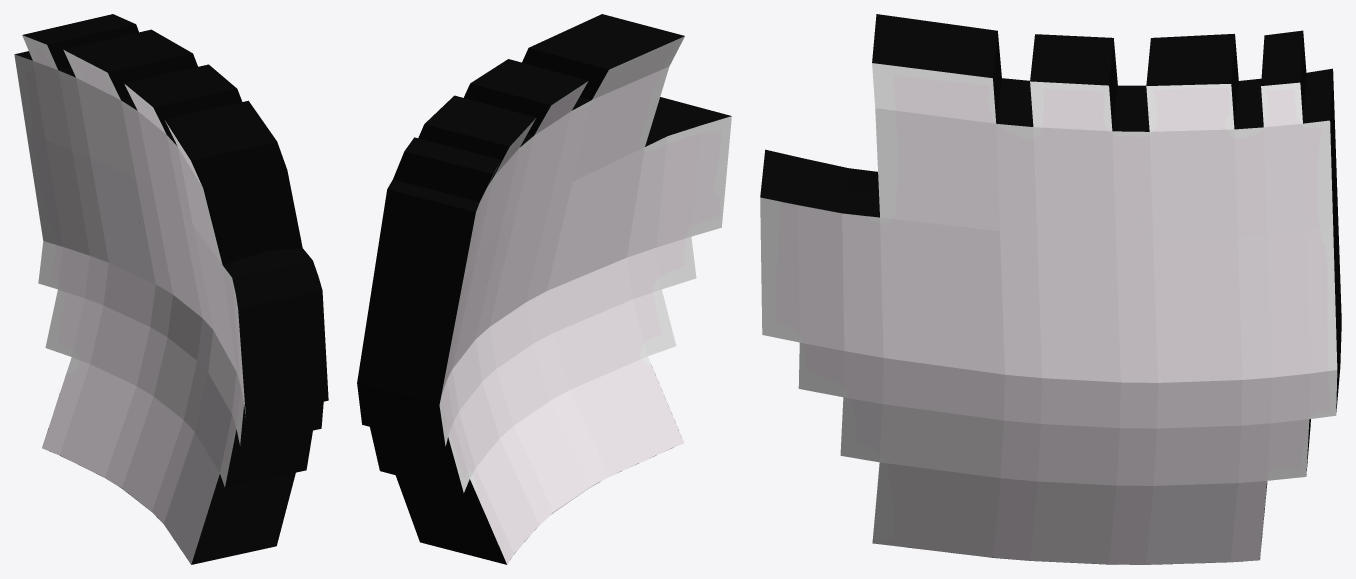
File: model_Cursor_Grab_Basic.fbx
3 renders of one model, left to right at view 1: azimuth 30°, elevation 25°; view 2: azimuth 150°, elevation 25°; view 3: azimuth 270°, elevation 25°, orthographic. The views are drawn at different scales.
Parts seen in each view (by area): view 1: SM_Grab; view 2: SM_Grab; view 3: SM_Grab.
Boxes of the visible parts, left/top/right/bottom form: SM_Grab: left=14, top=14, right=328, bottom=564; SM_Grab: left=357, top=14, right=731, bottom=564; SM_Grab: left=760, top=14, right=1341, bottom=564.
Bounding box in the file's own units: 24.11 × 59.34 × 64.22.
